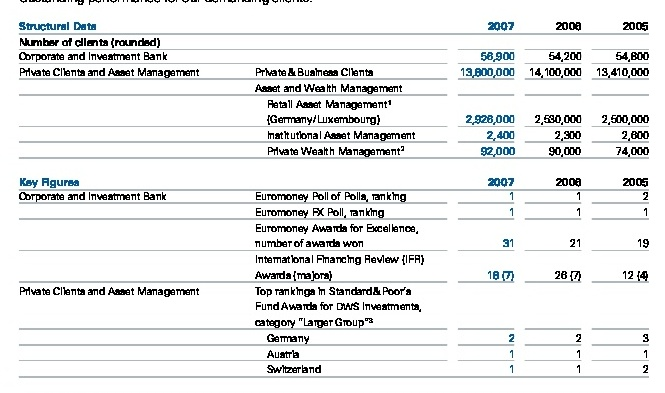table: (0, 0, 665, 393)
